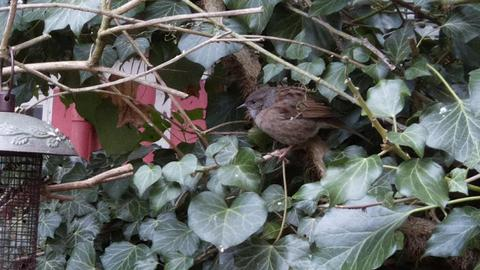dunnock: (236, 86, 374, 164)
